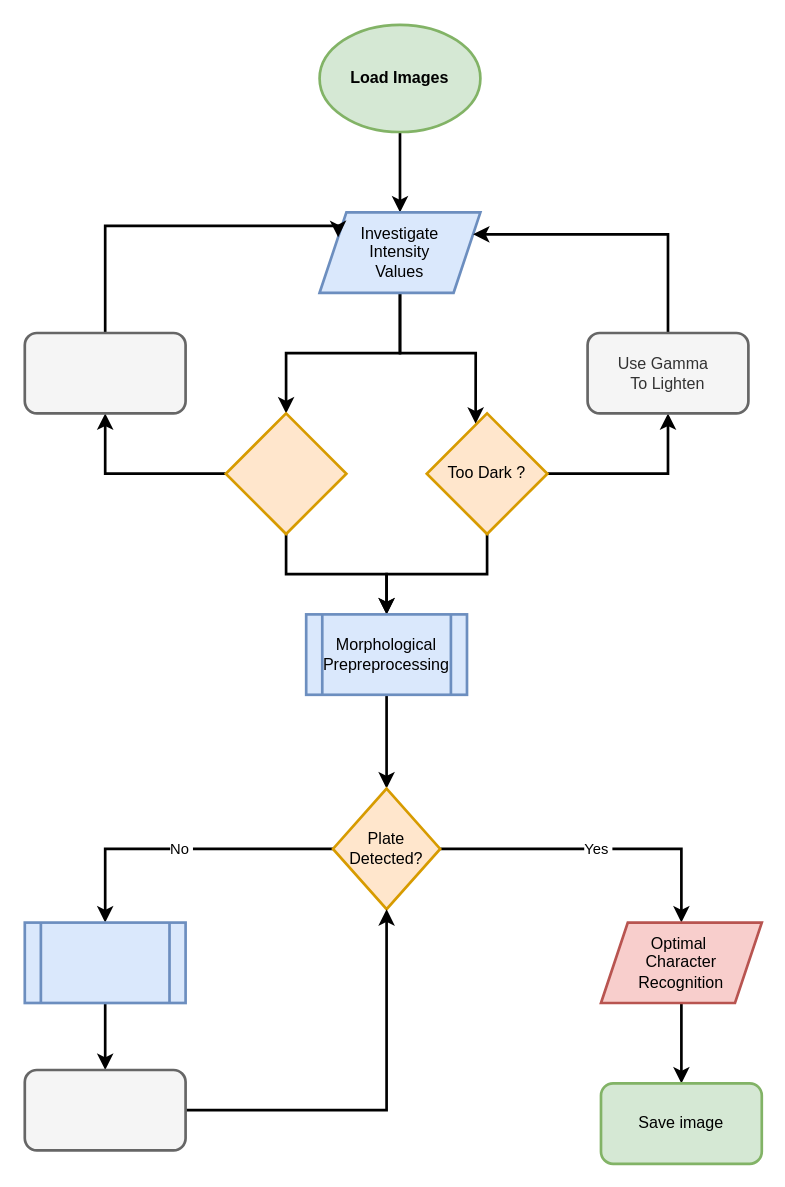
The diagram is 785 pixels wide and 1187 high, and some of its shapes have lost their labels. The box of each missing label's shape, as (x1, y1, x2, y2) in pixels:
Hyperparameter Tuning: (23, 1068, 186, 1151)
Stepwise Plate Detection: (23, 921, 186, 1004)
Too Light ?: (224, 411, 347, 535)
Use Gamma To Darken: (23, 331, 186, 414)
